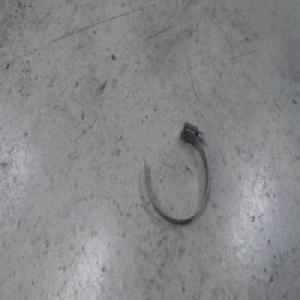AdjustableClamp: (142, 121, 211, 225)
